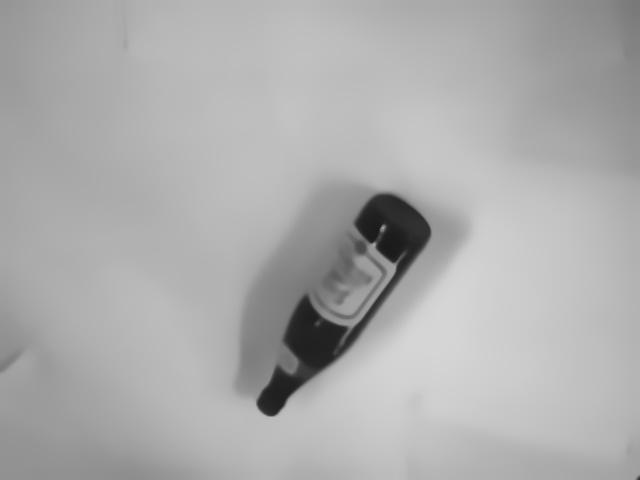Glass: (255, 189, 434, 422)
